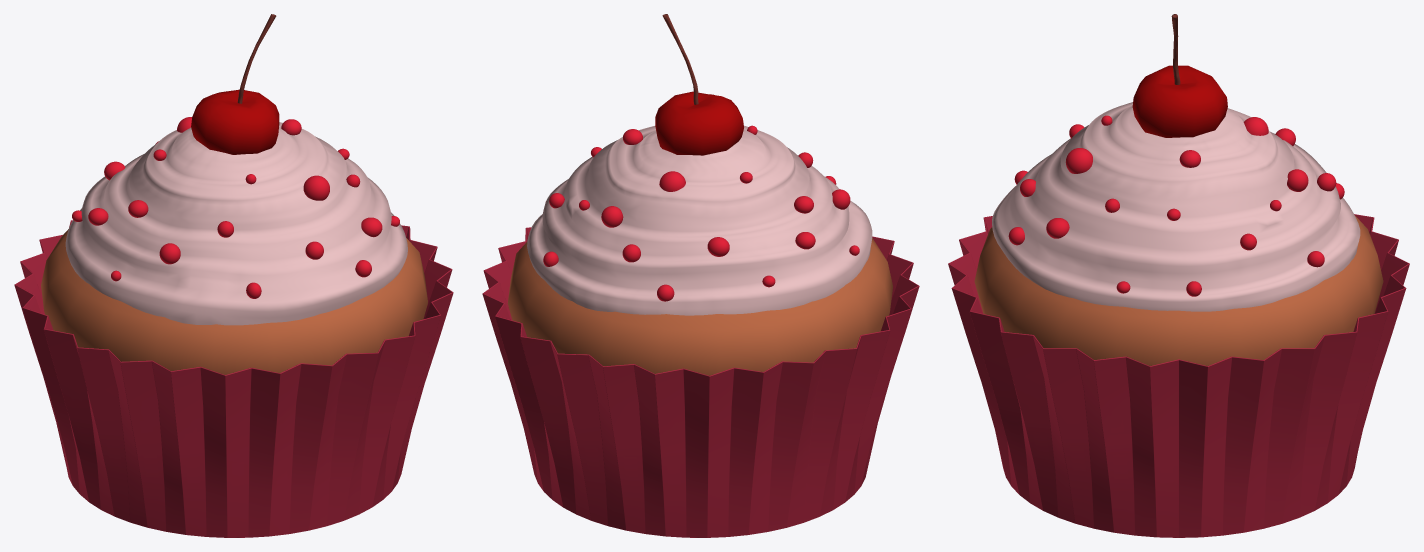
Rendered from CupCake.fbx.
The picture shows the model from 3 angles, left to right: view 1: azimuth 30°, elevation 25°; view 2: azimuth 150°, elevation 25°; view 3: azimuth 270°, elevation 25°; orthographic projection. The views are drawn at different scales.
Visible parts, largest first — view 1: Cake, Cup, Cherry, Toppings; view 2: Cake, Cup, Cherry, Toppings; view 3: Cake, Cup, Cherry, Toppings.
Part boxes in pixels (box(x1,y1,x2,y2)): Cake: box(41, 122, 427, 374); Cup: box(14, 220, 453, 537); Cherry: box(191, 14, 279, 154); Toppings: box(72, 117, 399, 298); Cake: box(507, 125, 892, 375); Cup: box(482, 227, 919, 537); Cherry: box(655, 14, 743, 155); Toppings: box(543, 125, 859, 301); Cake: box(974, 102, 1383, 365); Cup: box(948, 214, 1409, 537); Cherry: box(1132, 14, 1227, 137); Toppings: box(1008, 115, 1344, 296).
Size of the model in its own units: 11.15 by 12.49 by 11.18.
